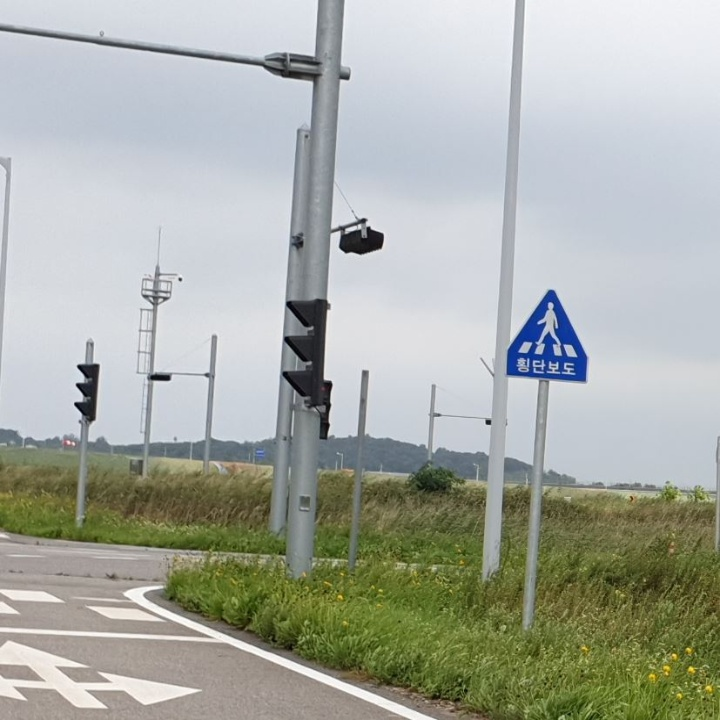cross: (532, 296, 568, 353)
